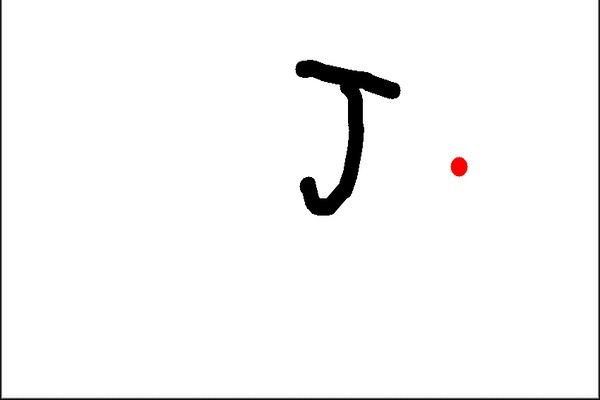J: (285, 54, 407, 223)
